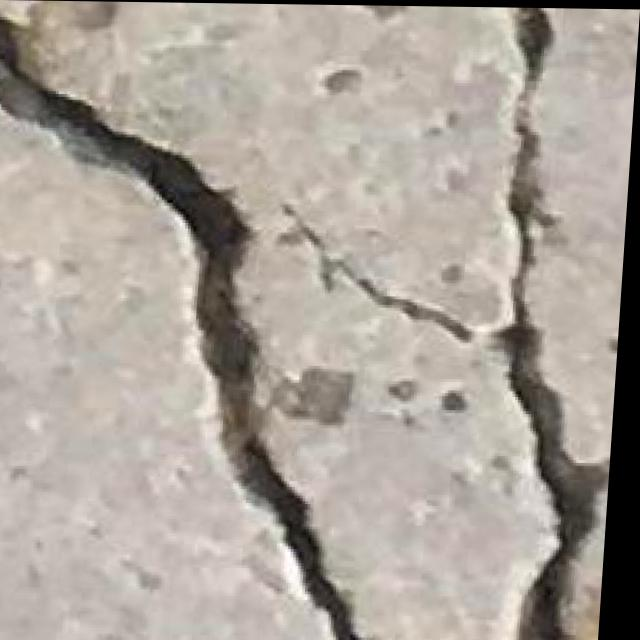Crack: (0, 25, 636, 588)
